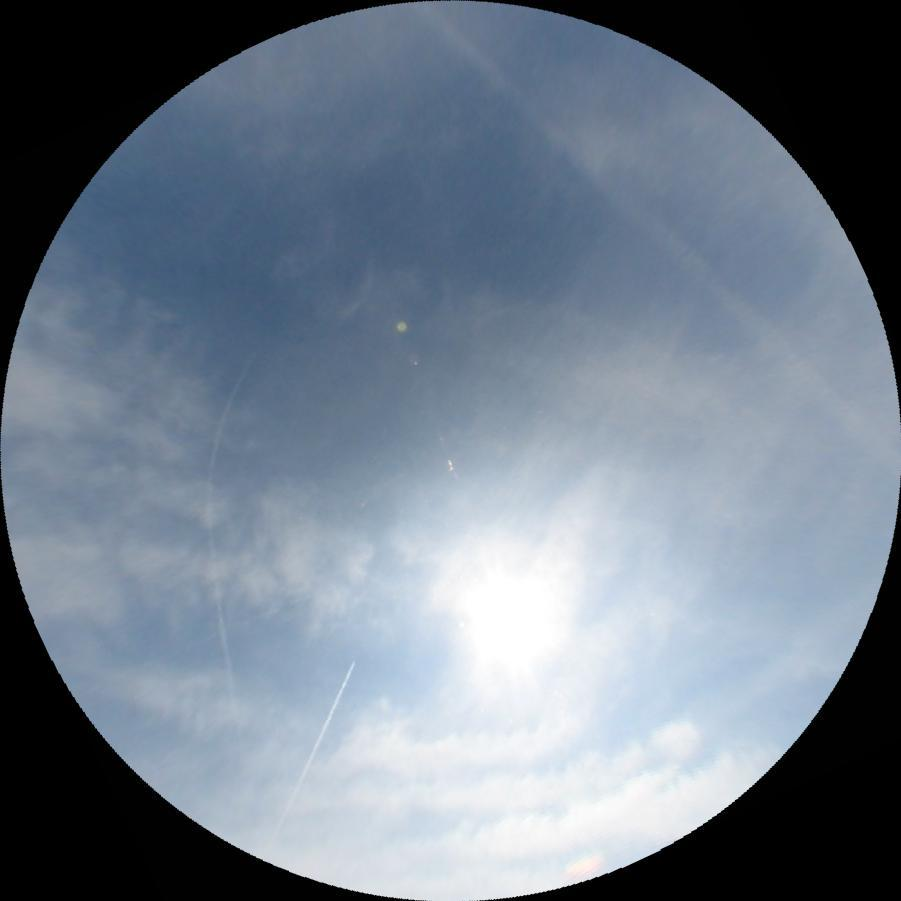contrail young: (193, 346, 257, 706), (276, 659, 356, 826)
sun: (444, 547, 579, 687)
